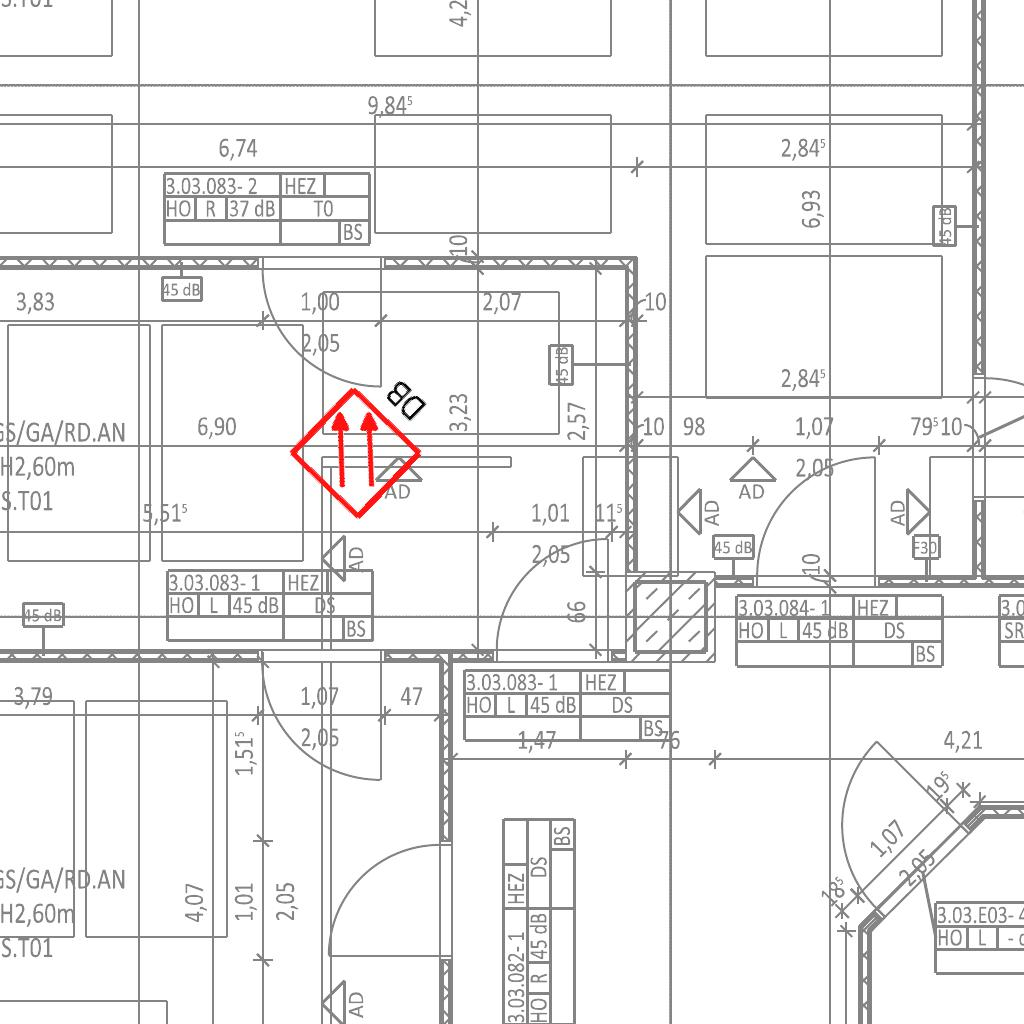DB_Melder_in_Doppelboden_mit_Revisionsoeffnung_mind_40_x_40_cm: (276, 344, 462, 531)
